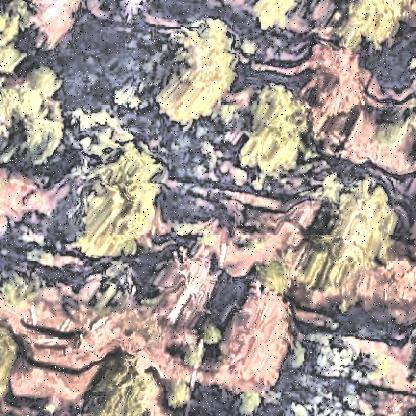tree-top: (56, 144, 181, 256), (293, 179, 401, 289), (144, 17, 252, 126), (231, 80, 313, 176), (1, 72, 73, 164), (75, 344, 167, 416), (322, 1, 408, 58), (245, 252, 298, 301), (372, 102, 416, 154)
